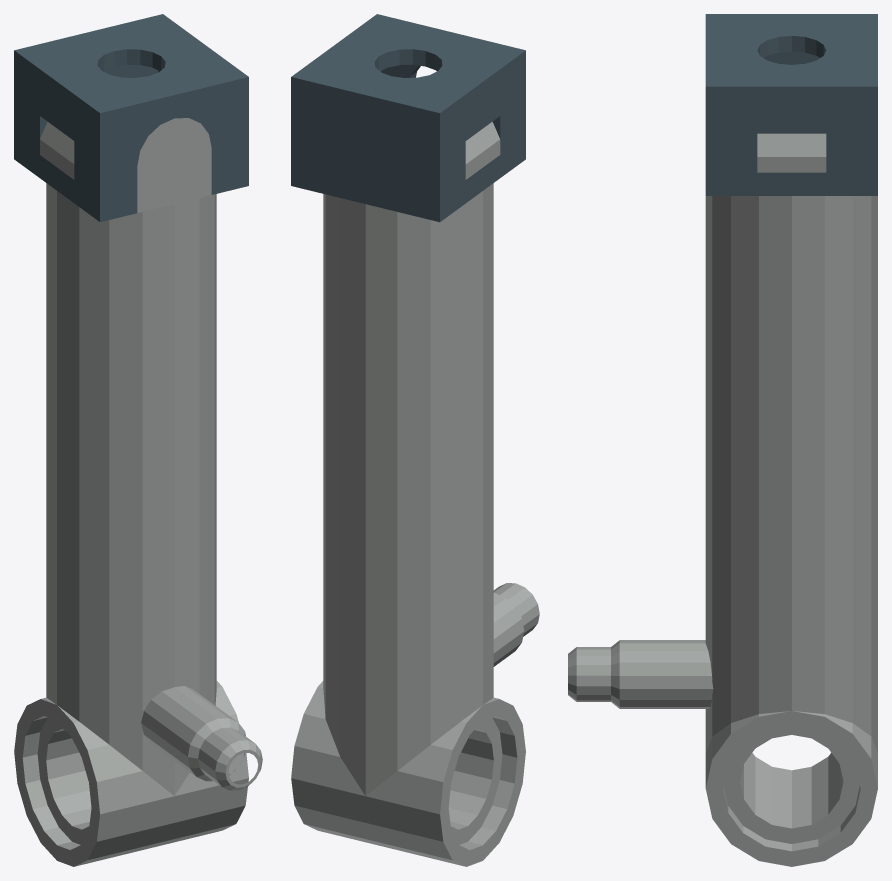
3 renders of one model, left to right at view 1: azimuth 30°, elevation 25°; view 2: azimuth 150°, elevation 25°; view 3: azimuth 270°, elevation 25°, orthographic.
Parts seen in each view (by area): view 1: world; view 2: world; view 3: world.
Boxes of the visible parts, x1,y1,x2,y2 form: world: (14, 14, 262, 866); world: (291, 14, 539, 866); world: (568, 14, 877, 866).
Bounding box in the file's own units: 0.008 × 0.04 × 0.0144.
